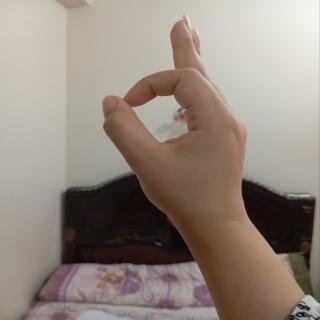Space: (84, 11, 266, 228)
